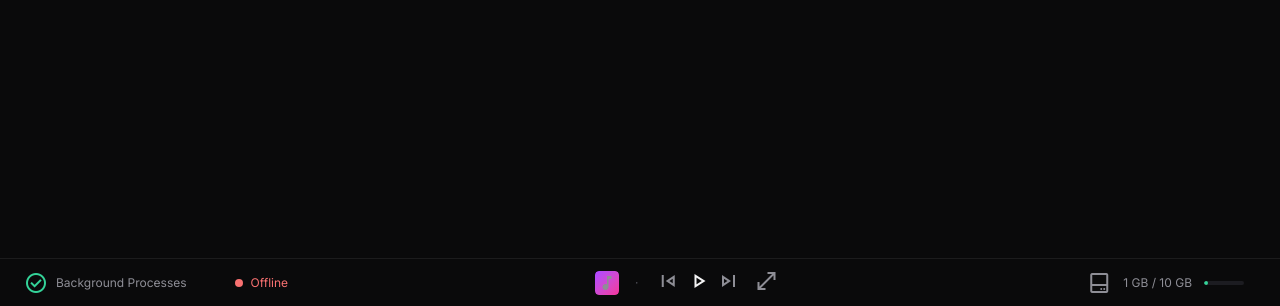
StatusBar (FE-7 fake telemetry removal) › shows "Never" as last sync time when no account ever synced
Click the button with class "sync-status" at (105, 282), box [12, 266, 199, 298]
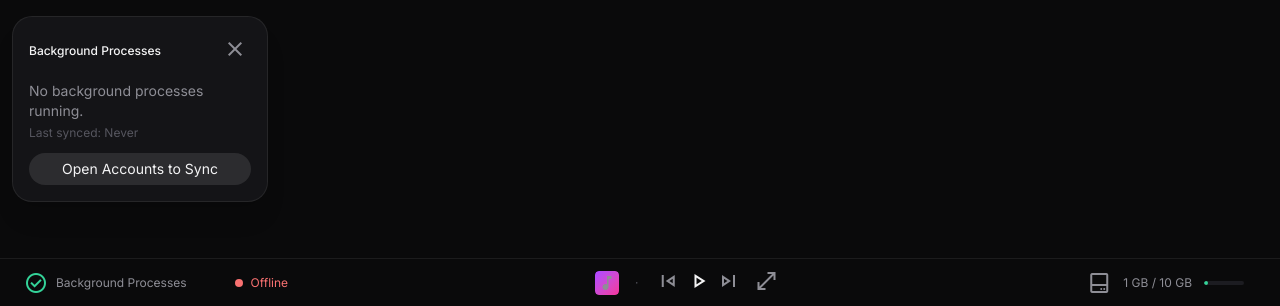
Expected: the text "Last synced: Never" is shown, [29, 125, 138, 140]
